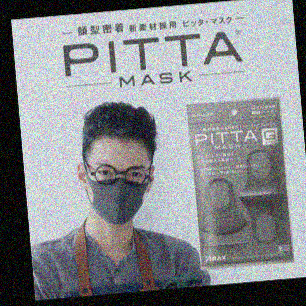with_mask: (88, 158, 152, 224)
